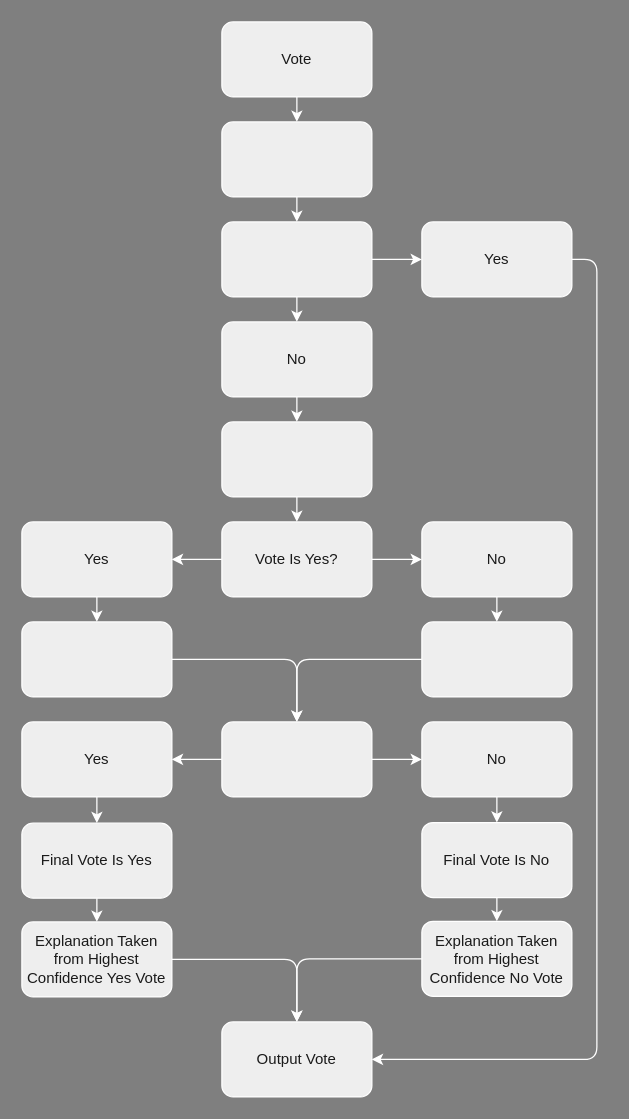
This 629x1119 diagram has some shape labels left out. Each missing label, with the box of its shape:
Add Confidence To Vote Sum: (21, 621, 172, 697)
Generate More Responses (Preset Batch Size): (221, 421, 372, 497)
Metadata Confidence greater than threshold?: (221, 221, 372, 297)
Request Safeguarded Response from LLM: (221, 121, 372, 197)
Subtract Confidence from Vote Sum: (421, 621, 572, 697)
Vote Sum Positive?: (221, 721, 372, 797)
